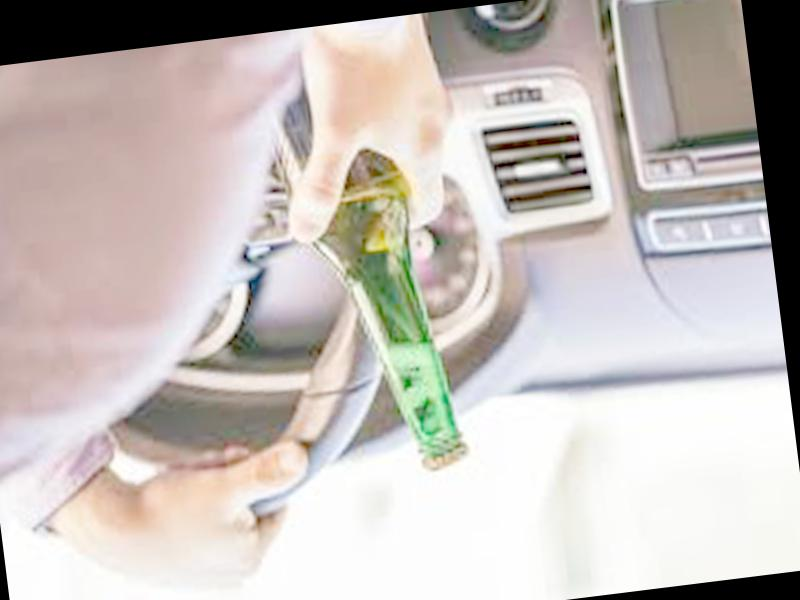Beer: (254, 32, 472, 489)
